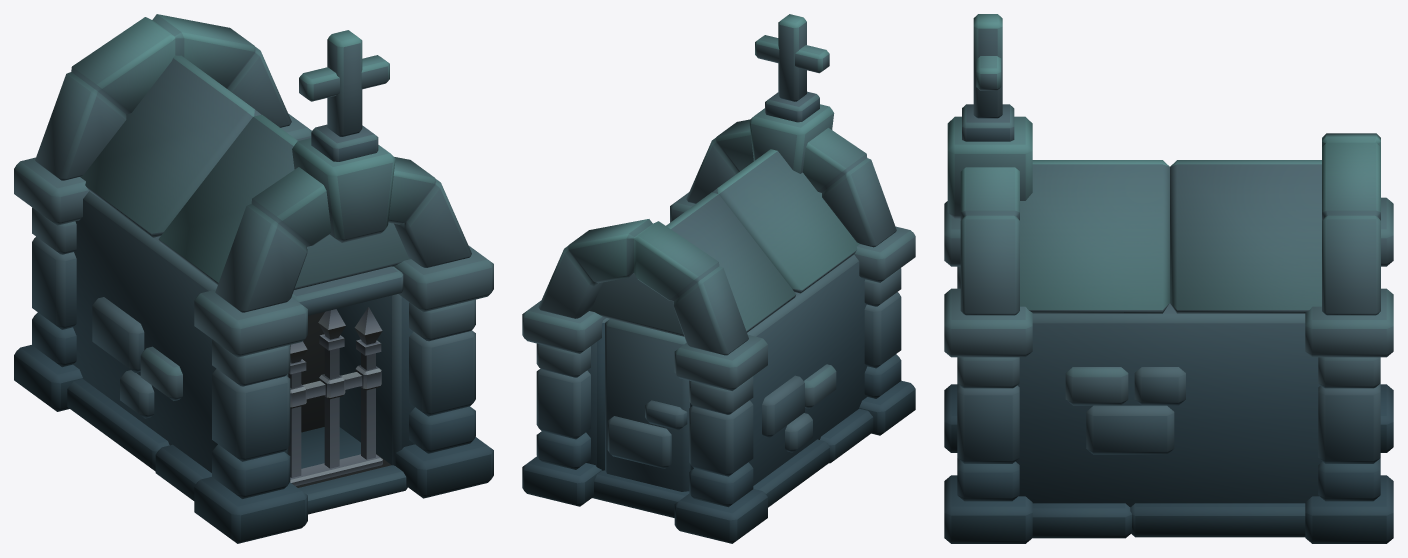
The model's file is tomb_01.fbx.
The picture shows the model from 3 angles, left to right: view 1: azimuth 30°, elevation 25°; view 2: azimuth 150°, elevation 25°; view 3: azimuth 270°, elevation 25°; orthographic projection. The views are drawn at different scales.
Visible parts, largest first — view 1: tomb, tomb_gate; view 2: tomb; view 3: tomb.
Part boxes in pixels (x1,y1,x2,y2): tomb: [14, 14, 493, 543]; tomb_gate: [288, 307, 382, 486]; tomb: [522, 14, 915, 543]; tomb: [944, 14, 1393, 543].
Bounding box in the file's own units: 254 × 430 × 376.
1 material, 1 textured.
